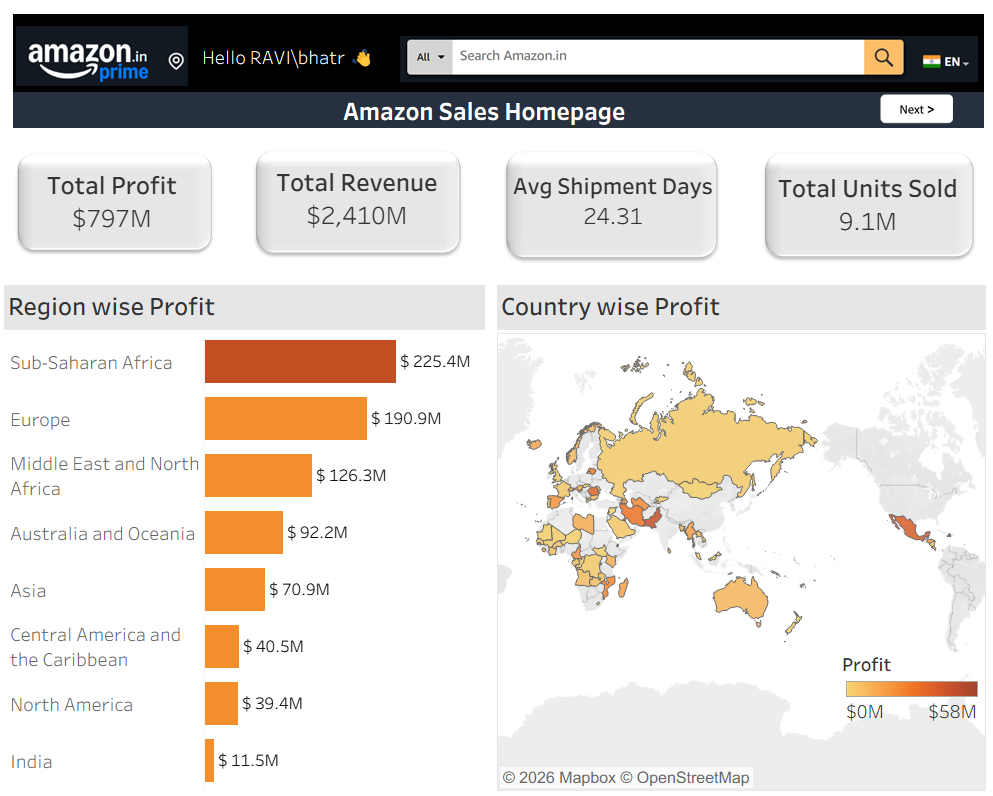

Layout of this report page (visuals, bound fields, positions):
{"tool":"tableau","page":{"name":"Welcome Page","canvas":[1000,800],"ordinal":3},"visuals":[{"type":"blank","box":[17,14,971,78]},{"type":"image","param":"C:/Users/bhatr/Documents/IT Rescources/Projects-GitHub/Tableau Dashboards/Amazon","box":[20,26,176,60]},{"type":"image","param":"C:/Users/bhatr/Documents/IT Rescources/Projects-GitHub/Tableau Dashboards/Amazon","box":[404,36,578,55]},{"type":"text","box":[202,40,223,34]},{"type":"blank","box":[17,92,971,36]},{"type":"dashboard-object","box":[871,94,99,32]},{"type":"text","box":[343,95,301,30]},{"type":"image","param":"C:/Users/bhatr/AppData/Local/Temp/TableauTemp/0maxnz10tq63gc1d93air0g0l8mf/Sheet","box":[255,148,214,128]},{"type":"image","param":"C:/Users/bhatr/AppData/Local/Temp/TableauTemp/0maxnz10tq63gc1d93air0g0l8mf/Sheet","box":[505,149,245,116]},{"type":"image","param":"C:/Users/bhatr/AppData/Local/Temp/TableauTemp/0maxnz10tq63gc1d93air0g0l8mf/Sheet","box":[764,150,218,115]},{"type":"image","param":"C:/Users/bhatr/Documents/IT Rescources/Projects-GitHub/Tableau Dashboards/Amazon","box":[17,151,203,131]},{"type":"worksheet","title":"Revenue","mark":"Automatic","box":[271,165,182,79]},{"type":"worksheet","title":"Profit","mark":"Automatic","box":[46,168,143,77]},{"type":"worksheet","title":"Shipment Days","mark":"Automatic","box":[507,170,222,82]},{"type":"worksheet","title":"Units Sold","mark":"Automatic","box":[772,171,202,76]},{"type":"worksheet","title":"Region wise Profit","mark":"Automatic","rows":["Region"],"cols":["Calculation_0890636785463296"],"box":[8,285,481,504]},{"type":"worksheet","title":"Country wise Profit","mark":"Automatic","box":[501,285,489,506]},{"type":"legend","title":"Country wise Profit","param":"[federated.1lict1q0mehexe19oex401ajhofs].[sum:Calculation_0890636785463296:qk]","box":[846,651,140,100]}]}

Visuals, with their boxes on the page's 1000x800 design canvas (x1, y1, x2, y2). These are canvas units, not pixel positions in the 993x796 screenshot, which may show the page scaled, cropped or inside an application window:
blank: <region>17, 14, 988, 92</region>
image: <region>20, 26, 196, 86</region>
image: <region>404, 36, 982, 91</region>
text: <region>202, 40, 425, 74</region>
blank: <region>17, 92, 988, 128</region>
dashboard-object: <region>871, 94, 970, 126</region>
text: <region>343, 95, 644, 125</region>
image: <region>255, 148, 469, 276</region>
image: <region>505, 149, 750, 265</region>
image: <region>764, 150, 982, 265</region>
image: <region>17, 151, 220, 282</region>
"Revenue" worksheet: <region>271, 165, 453, 244</region>
"Profit" worksheet: <region>46, 168, 189, 245</region>
"Shipment Days" worksheet: <region>507, 170, 729, 252</region>
"Units Sold" worksheet: <region>772, 171, 974, 247</region>
"Region wise Profit" worksheet: <region>8, 285, 489, 789</region>
"Country wise Profit" worksheet: <region>501, 285, 990, 791</region>
"Country wise Profit" legend: <region>846, 651, 986, 751</region>
